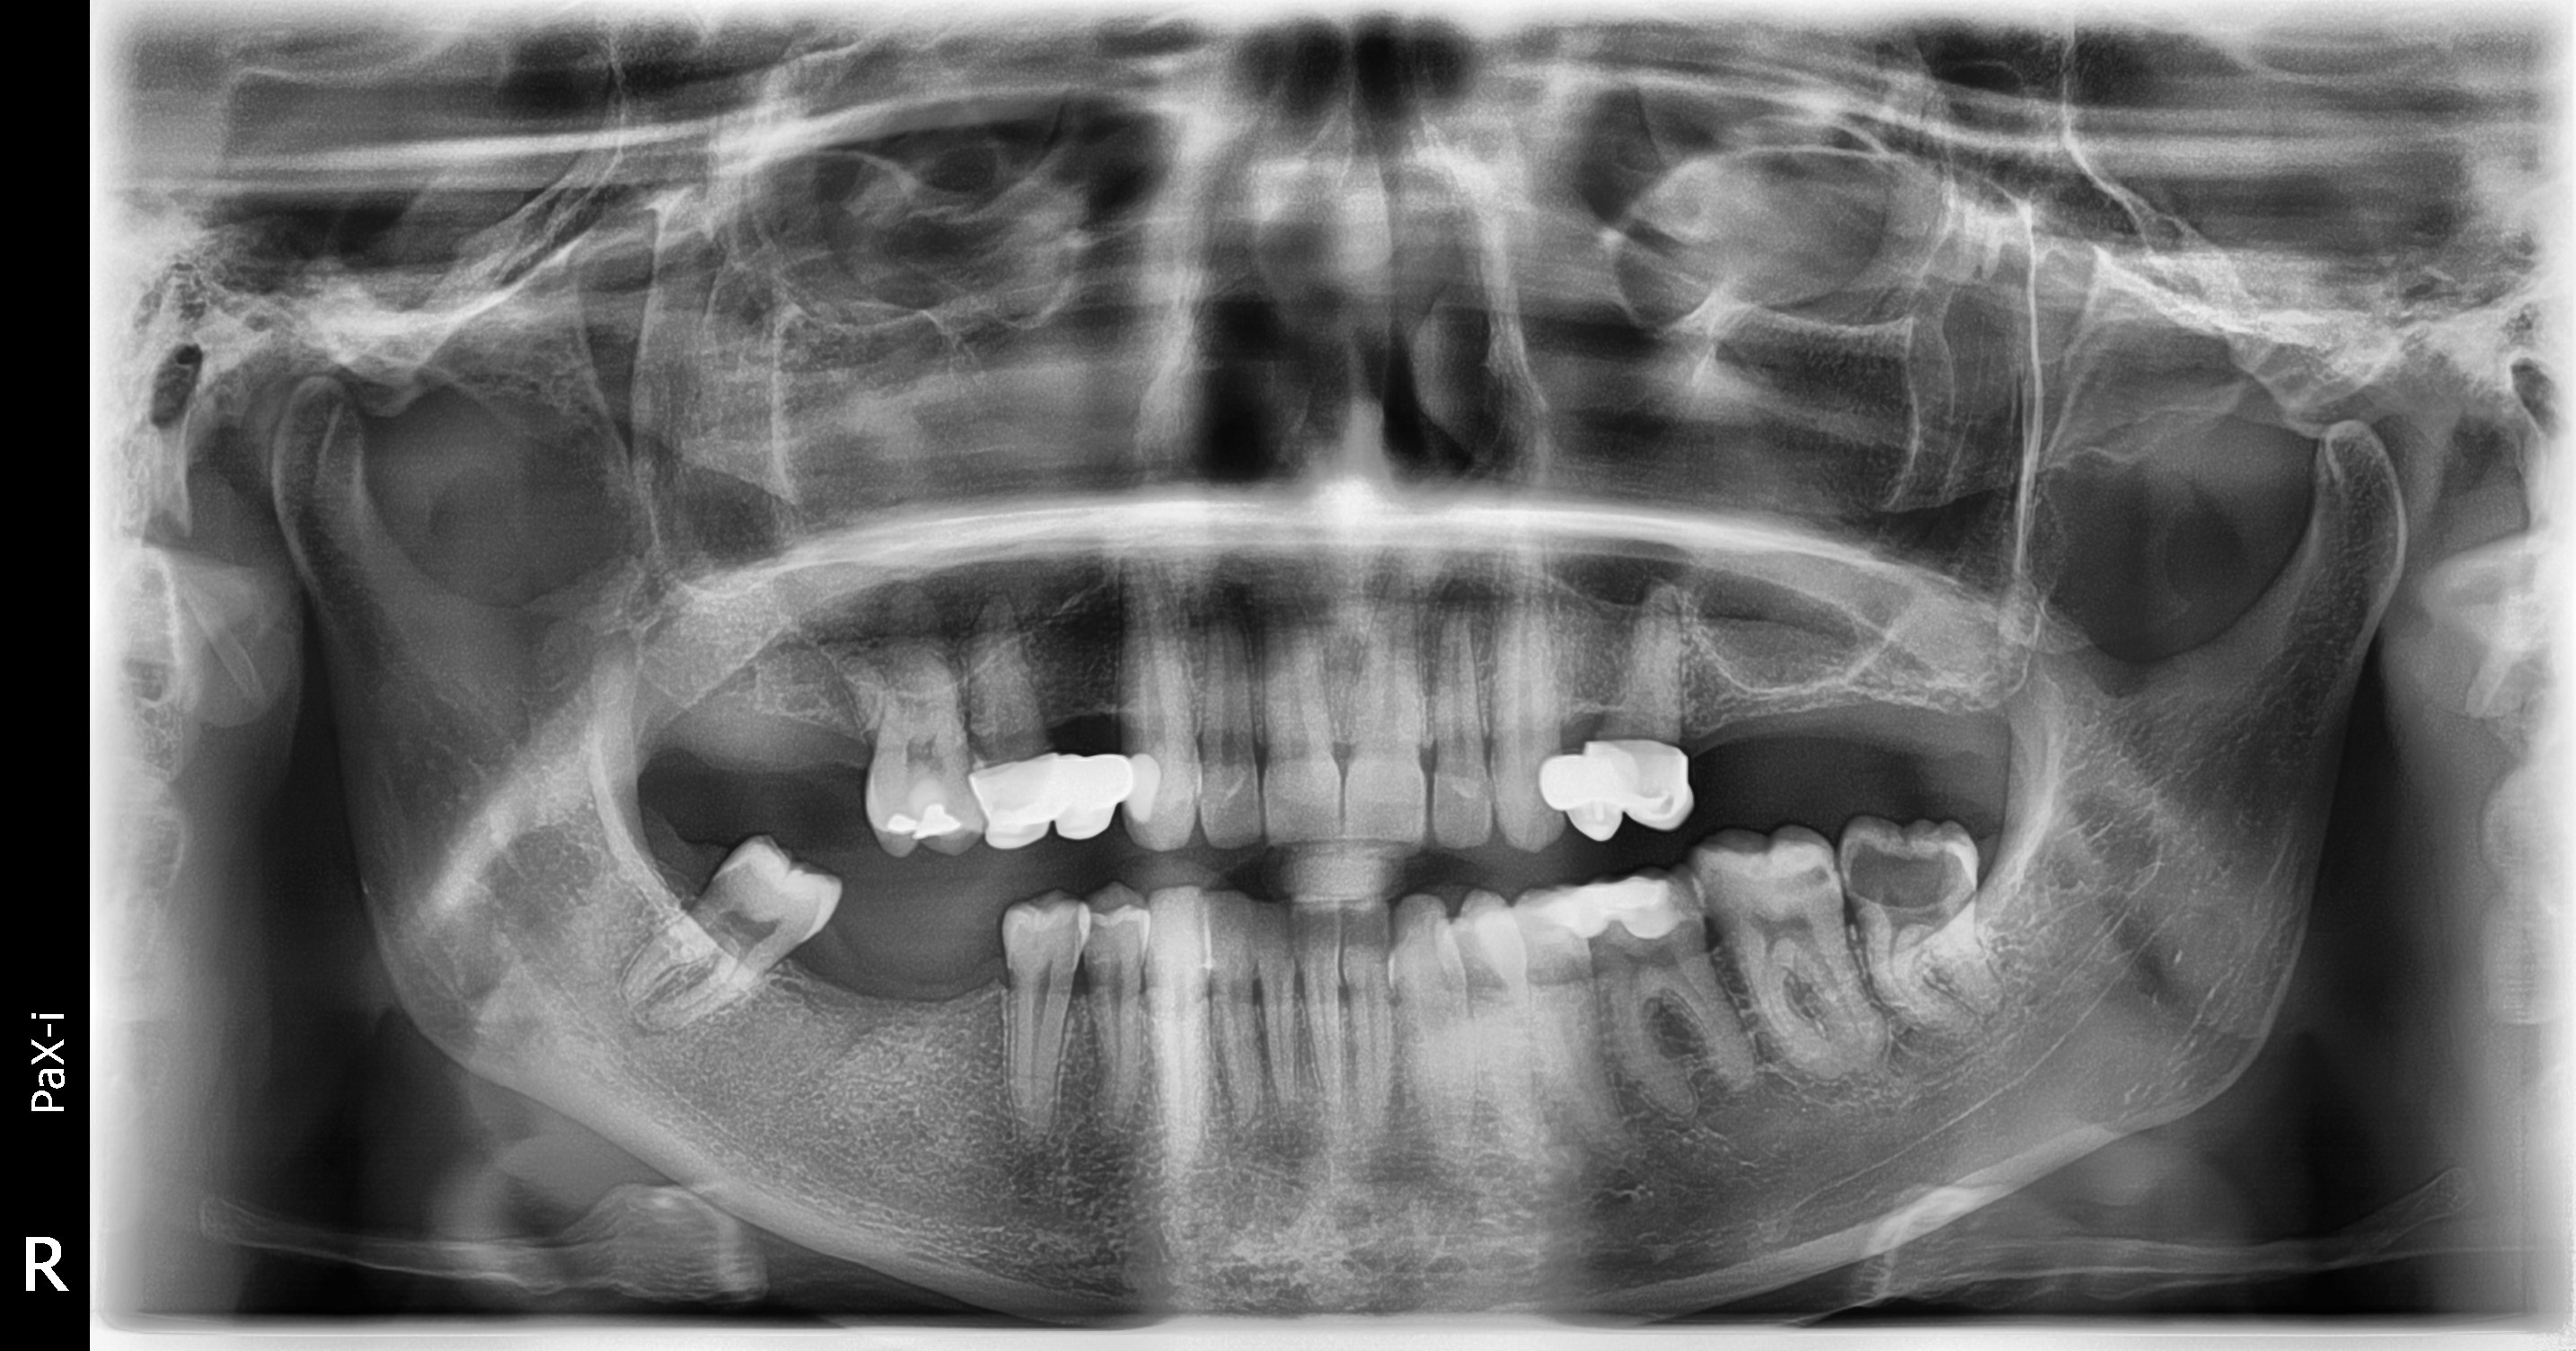CAR: (1838, 808, 1990, 925)
OBT: (1544, 860, 1700, 954), (1094, 741, 1189, 828), (872, 796, 978, 854)
PRR: (1515, 716, 1712, 859), (944, 743, 1140, 855)
